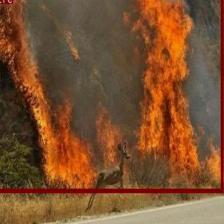fire: (0, 0, 223, 191)
